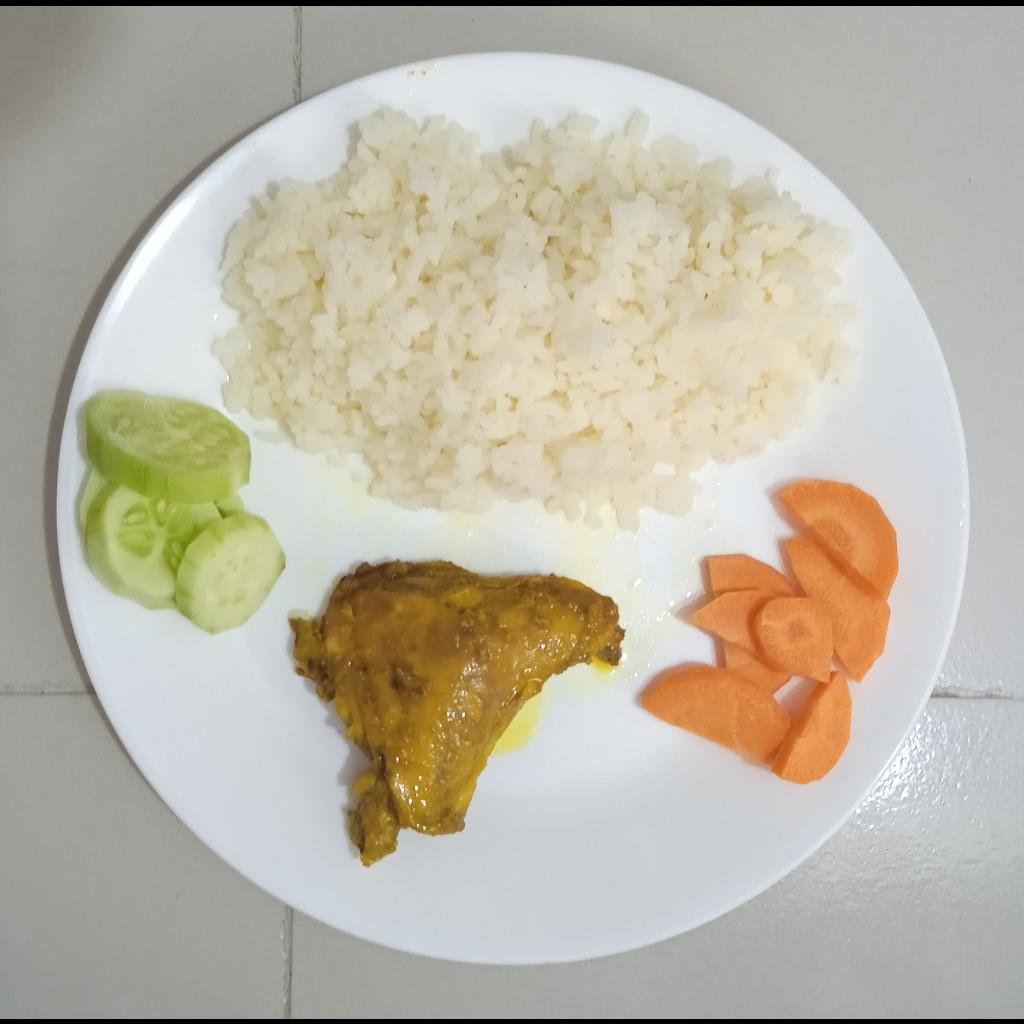carrot: (638, 479, 899, 784)
chicken: (292, 562, 625, 870)
cucumber: (79, 388, 286, 636)
rice: (213, 107, 849, 529)
